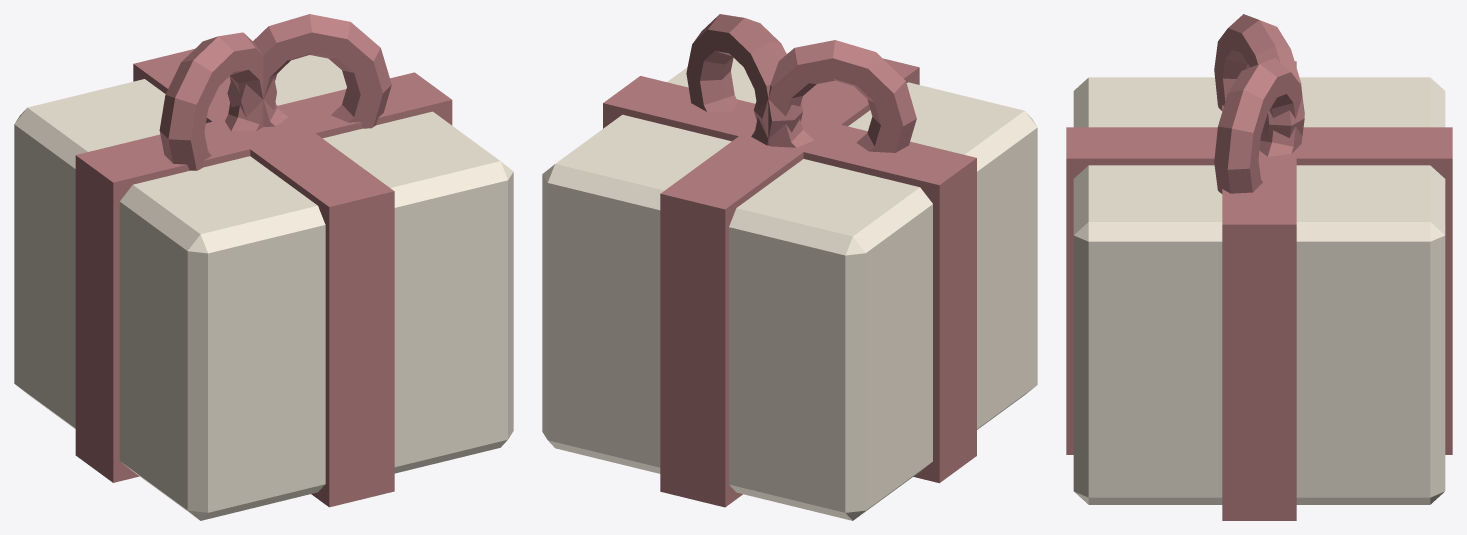
Rendered from sb_present_cream.glb.
3 views of the same model, side by side, from view 1: azimuth 30°, elevation 25°; view 2: azimuth 150°, elevation 25°; view 3: azimuth 270°, elevation 25° (orthographic).
Parts seen in each view (by area): view 1: present_cream; view 2: present_cream; view 3: present_cream.
Boxes of the visible parts, x1,y1,x2,y2 form: present_cream: (14, 14, 513, 520); present_cream: (542, 14, 1037, 520); present_cream: (1066, 14, 1452, 520).
Size of the model in its own units: 0.52 by 0.59 by 0.52.
